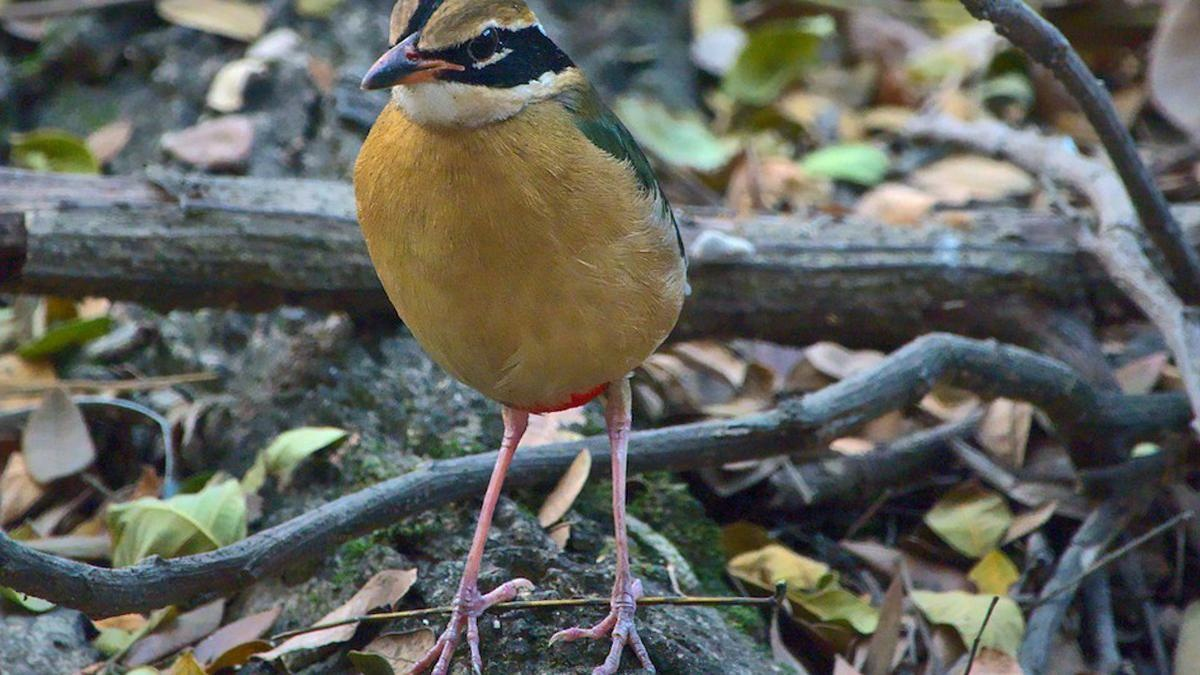pitta: (320, 8, 750, 609)
